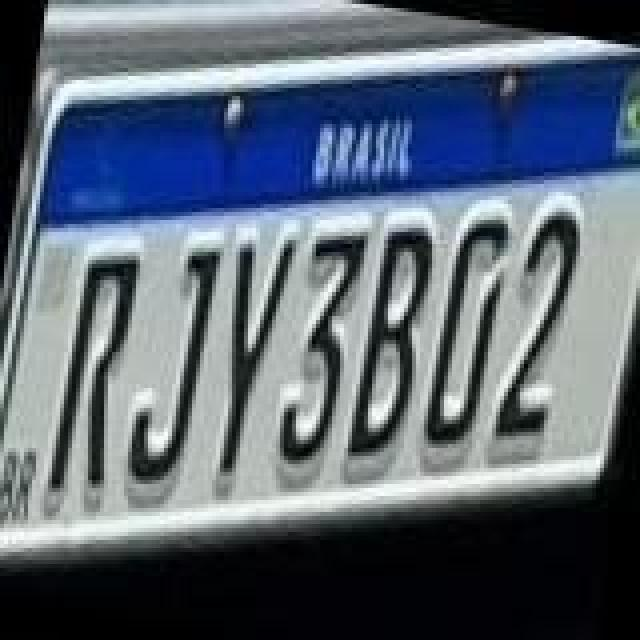2: (488, 206, 584, 450)
3: (272, 226, 368, 470)
B: (344, 222, 440, 466)
D: (418, 216, 510, 456)
J: (122, 242, 222, 494)
R: (42, 246, 142, 506)
Y: (200, 230, 296, 482)
